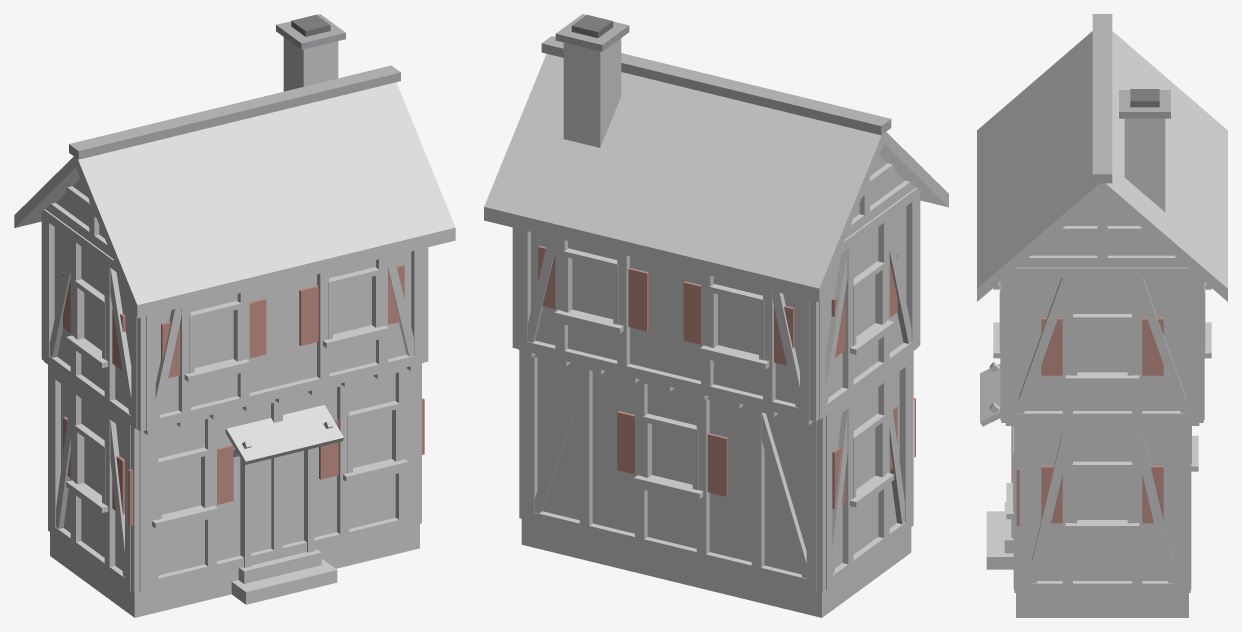
The model's file is house_3.glb.
3 renders of one model, left to right at view 1: azimuth 30°, elevation 25°; view 2: azimuth 150°, elevation 25°; view 3: azimuth 270°, elevation 25°, orthographic. The views are drawn at different scales.
Bounding box in the file's own units: 4.66 × 6.77 × 3.08.
